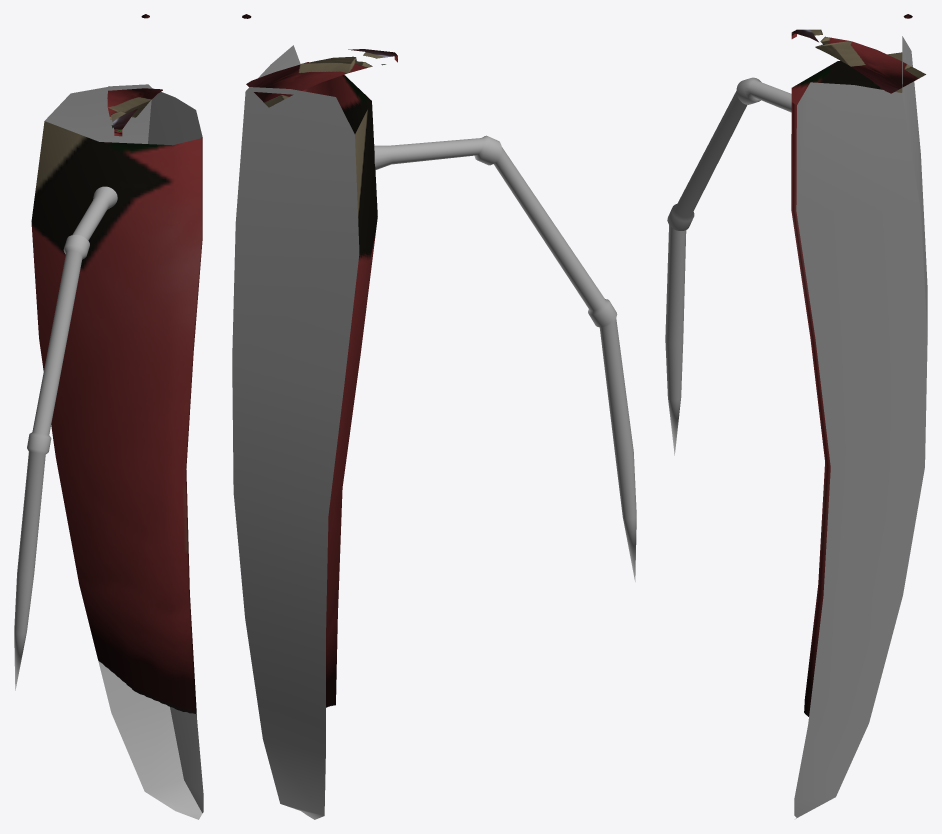
Rendered from Food_Pepper_Quater.fbx.
3 views of the same model, side by side, from view 1: azimuth 30°, elevation 25°; view 2: azimuth 150°, elevation 25°; view 3: azimuth 270°, elevation 25° (orthographic). The views are drawn at different scales.
Parts seen in each view (by area): view 1: Pepper_Quater; view 2: Pepper_Quater; view 3: Pepper_Quater.
Part boxes in pixels (x1,y1,x2,y2): Pepper_Quater: [14, 14, 203, 819]; Pepper_Quater: [232, 14, 636, 819]; Pepper_Quater: [665, 14, 927, 818].
Size of the model in its own units: 13.96 by 40.58 by 11.96.
